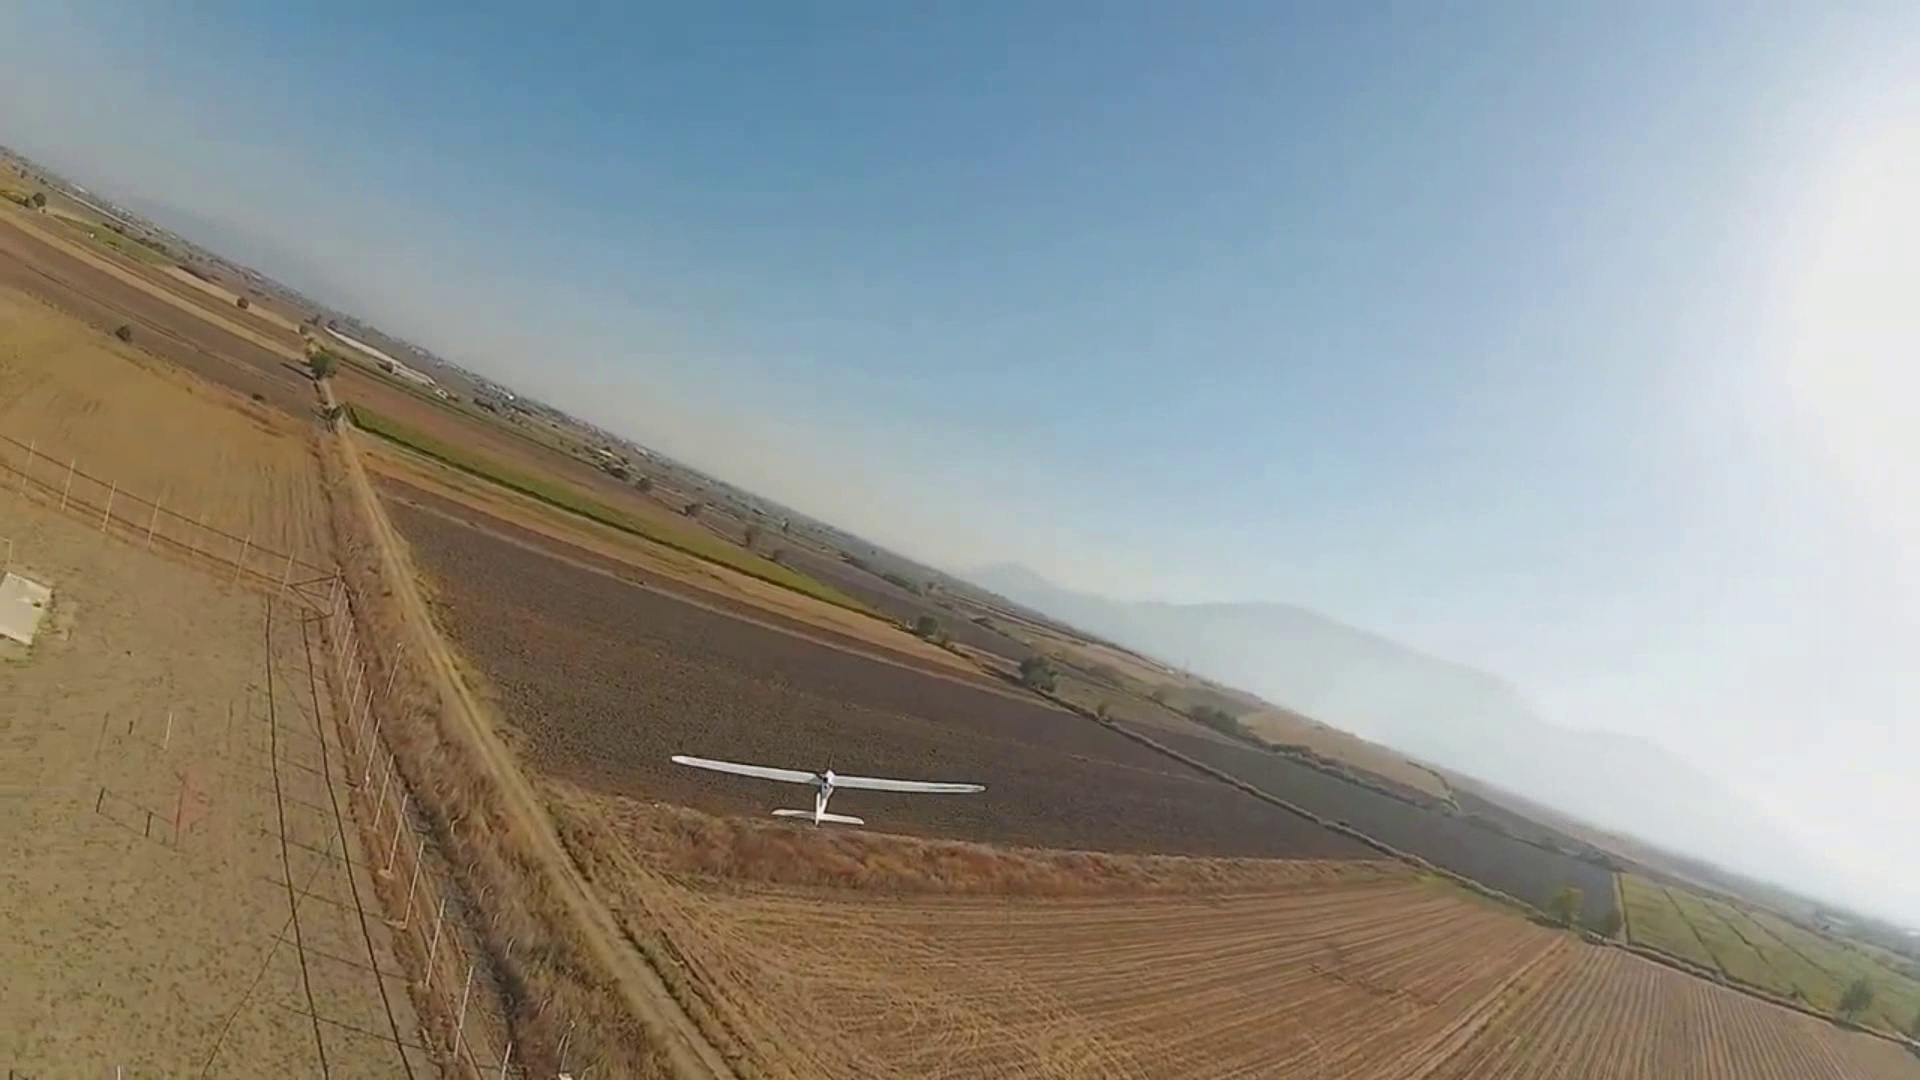airplane: (37, 270, 1920, 1025)
